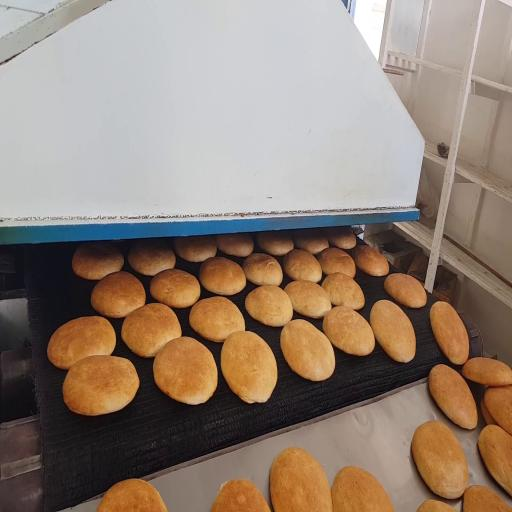bread: (63, 356, 139, 415), (412, 421, 468, 499), (153, 337, 217, 404), (221, 331, 277, 403), (270, 448, 332, 511), (47, 316, 115, 369), (281, 320, 335, 381), (122, 303, 181, 357), (429, 365, 477, 429), (370, 300, 415, 362), (332, 467, 394, 511), (323, 306, 374, 356), (91, 272, 145, 318), (190, 297, 245, 342), (430, 302, 469, 364), (478, 425, 511, 495), (97, 479, 167, 511), (245, 285, 293, 327), (150, 269, 200, 308), (72, 242, 123, 280), (211, 480, 270, 511), (199, 257, 246, 295), (285, 281, 331, 318), (128, 239, 175, 275), (322, 273, 364, 310), (384, 274, 426, 308), (462, 357, 511, 386), (484, 386, 511, 435), (242, 253, 283, 285), (284, 249, 322, 282), (463, 485, 511, 511), (317, 248, 355, 277), (175, 236, 216, 262), (354, 246, 389, 276), (215, 233, 253, 257), (257, 231, 293, 256), (294, 229, 328, 254), (325, 227, 356, 249), (480, 397, 498, 425), (417, 500, 455, 511)
